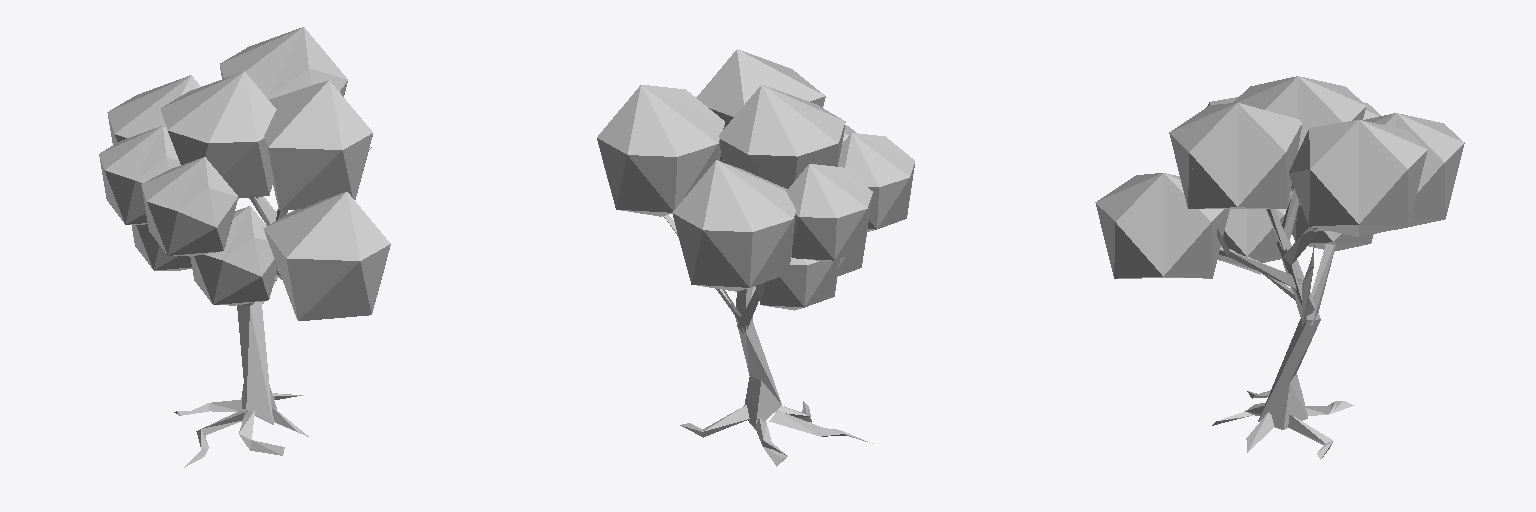
File: xenith psx tree.obj
3 renders of one model, left to right at view 1: azimuth 30°, elevation 25°; view 2: azimuth 150°, elevation 25°; view 3: azimuth 270°, elevation 25°, orthographic.
Visible parts, largest first — view 1: Cube_Cube.001, Cube.002_Cube.003, Cube.003_Cube.004, Cube.007_Cube.008, tree_Mesh, Cube.005_Cube.006, Cube.004_Cube.005, Cube.008_Cube.009, Cube.001_Cube.002, Cube.006_Cube.007; view 2: Cube.001_Cube.002, Cube.004_Cube.005, Cube.003_Cube.004, Cube.008_Cube.009, tree_Mesh, Cube.007_Cube.008, Cube.002_Cube.003, Cube.006_Cube.007; view 3: Cube.004_Cube.005, Cube.002_Cube.003, Cube_Cube.001, tree_Mesh, Cube.003_Cube.004, Cube.001_Cube.002, Cube.005_Cube.006, Cube.006_Cube.007.
Boxes of the visible parts, <box> form: Cube_Cube.001: <box>263,192,390,320</box>; Cube.002_Cube.003: <box>264,80,372,210</box>; Cube.003_Cube.004: <box>160,71,276,198</box>; Cube.007_Cube.008: <box>141,157,237,256</box>; tree_Mesh: <box>174,147,371,467</box>; Cube.005_Cube.006: <box>190,206,277,305</box>; Cube.004_Cube.005: <box>220,27,347,99</box>; Cube.008_Cube.009: <box>99,126,180,224</box>; Cube.001_Cube.002: <box>107,75,200,144</box>; Cube.006_Cube.007: <box>132,224,191,270</box>; Cube.001_Cube.002: <box>672,160,795,291</box>; Cube.004_Cube.005: <box>597,85,724,216</box>; Cube.003_Cube.004: <box>719,84,845,188</box>; Cube.008_Cube.009: <box>786,164,872,261</box>; tree_Mesh: <box>663,215,872,466</box>; Cube.007_Cube.008: <box>838,133,914,231</box>; Cube.002_Cube.003: <box>696,49,825,162</box>; Cube.006_Cube.007: <box>755,257,839,310</box>; Cube.004_Cube.005: <box>1289,120,1427,236</box>; Cube.002_Cube.003: <box>1169,103,1301,208</box>; Cube_Cube.001: <box>1095,173,1229,278</box>; tree_Mesh: <box>1192,168,1354,459</box>; Cube.003_Cube.004: <box>1233,76,1365,150</box>; Cube.001_Cube.002: <box>1363,113,1464,229</box>; Cube.005_Cube.006: <box>1219,209,1286,262</box>; Cube.006_Cube.007: <box>1291,184,1373,251</box>.
Bounding box in the file's own units: 4.07 × 5.54 × 5.18.